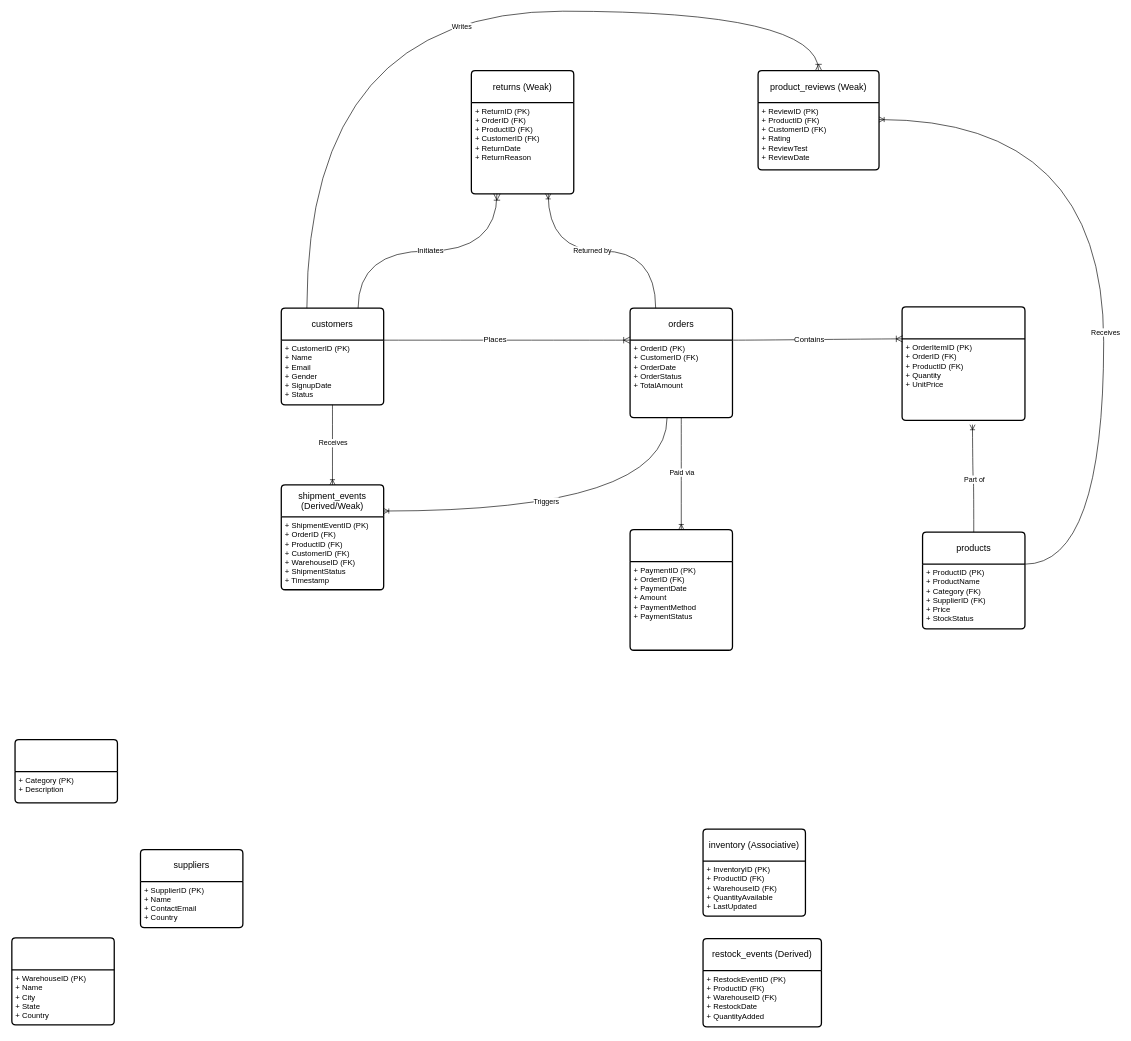
The diagram is 1131 pixels wide and 1041 high, and some of its shapes have lost their labels. Each missing label, with the box of its shape:
categories: (14, 739, 118, 803)
order_items (Associative): (901, 306, 1025, 421)
payments (Weak): (629, 529, 733, 651)
warehouses: (11, 937, 115, 1025)
